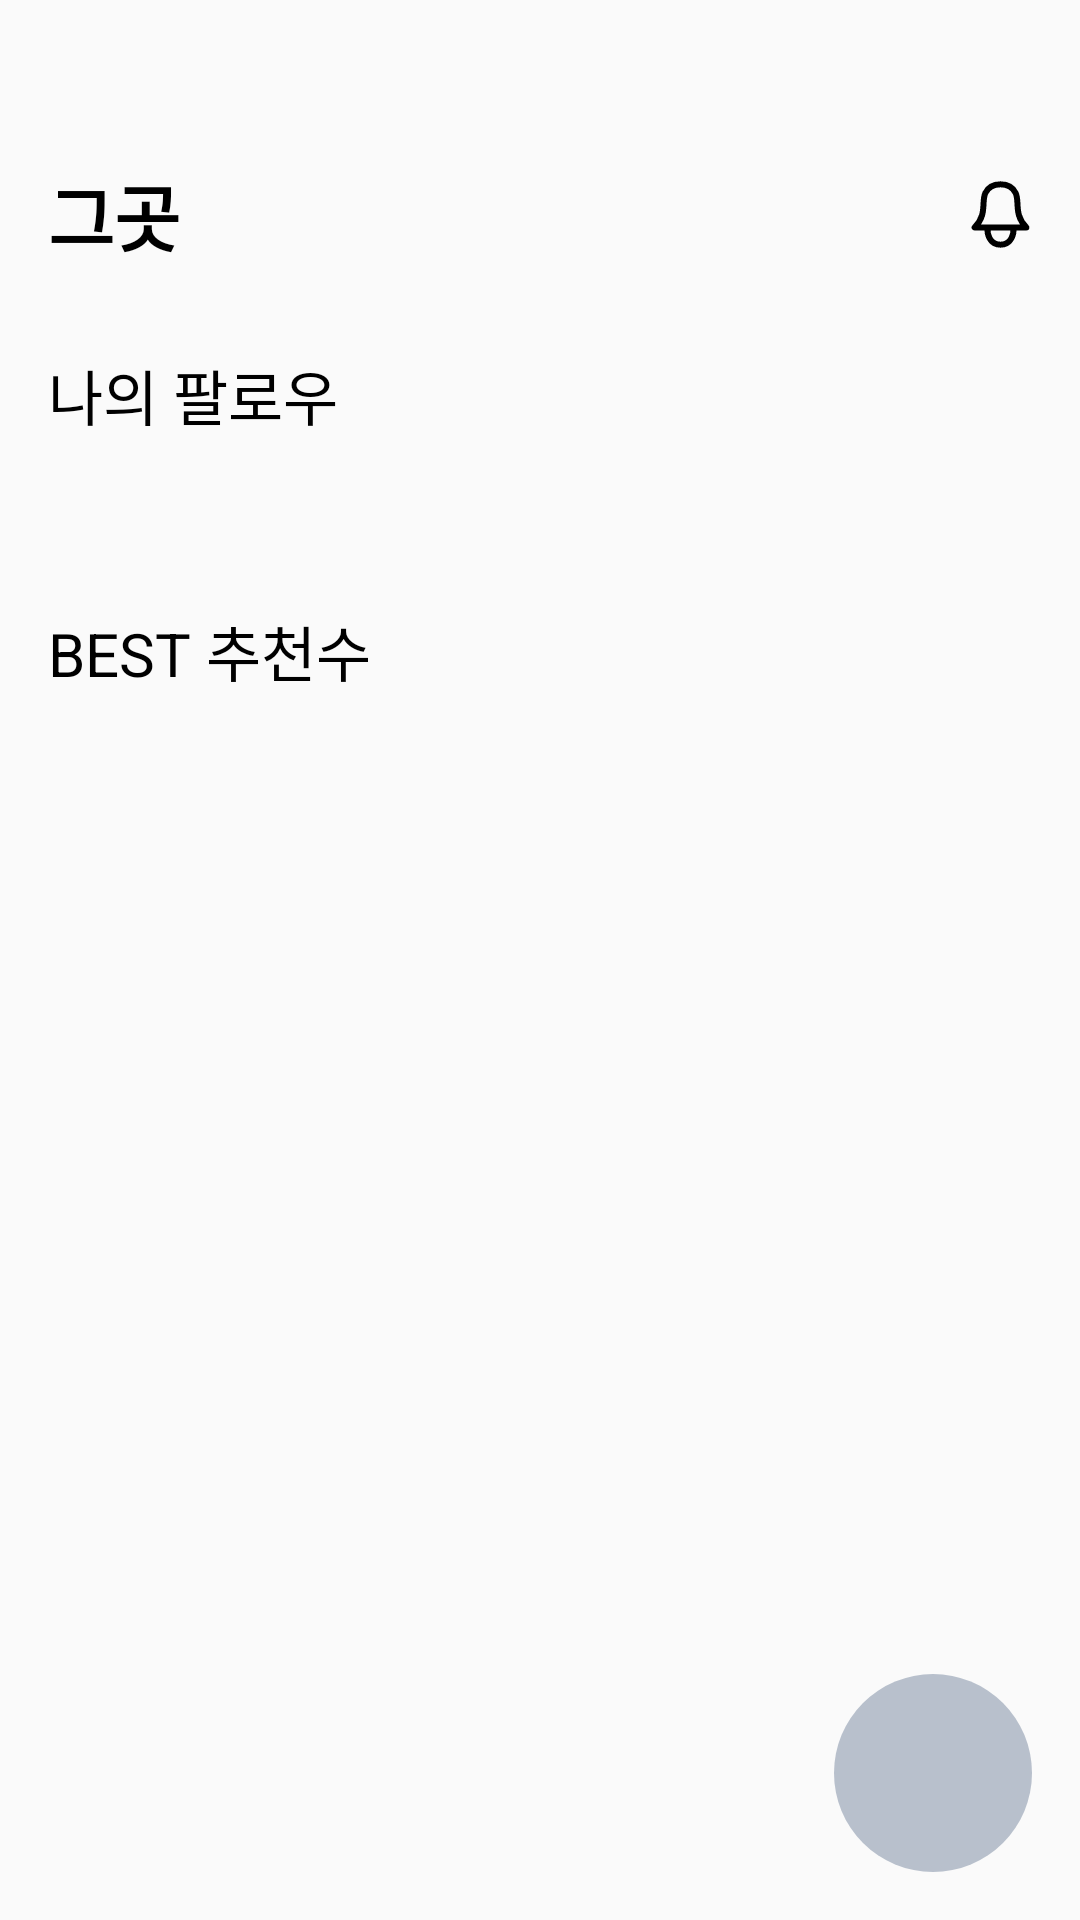

Locate icon controls on the screen. Image size 1080 x 1920, boxes as (x1, y1, x2, y2).
home alarm: (971, 181, 1030, 248)
